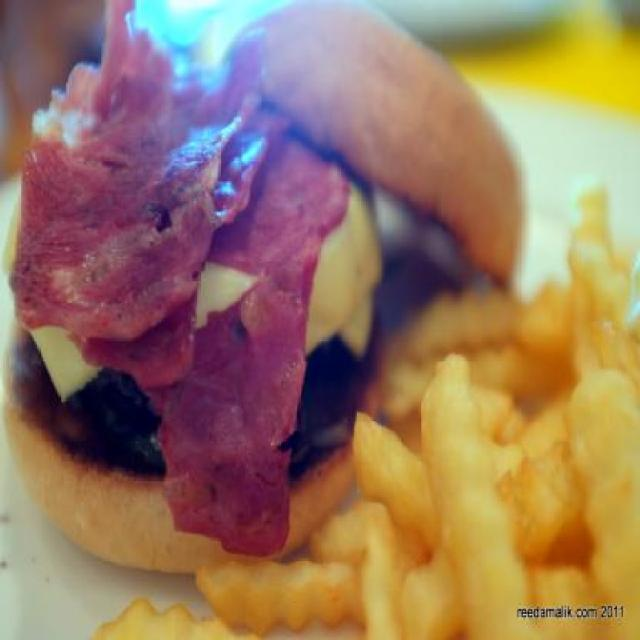French fries: (97, 192, 640, 634)
